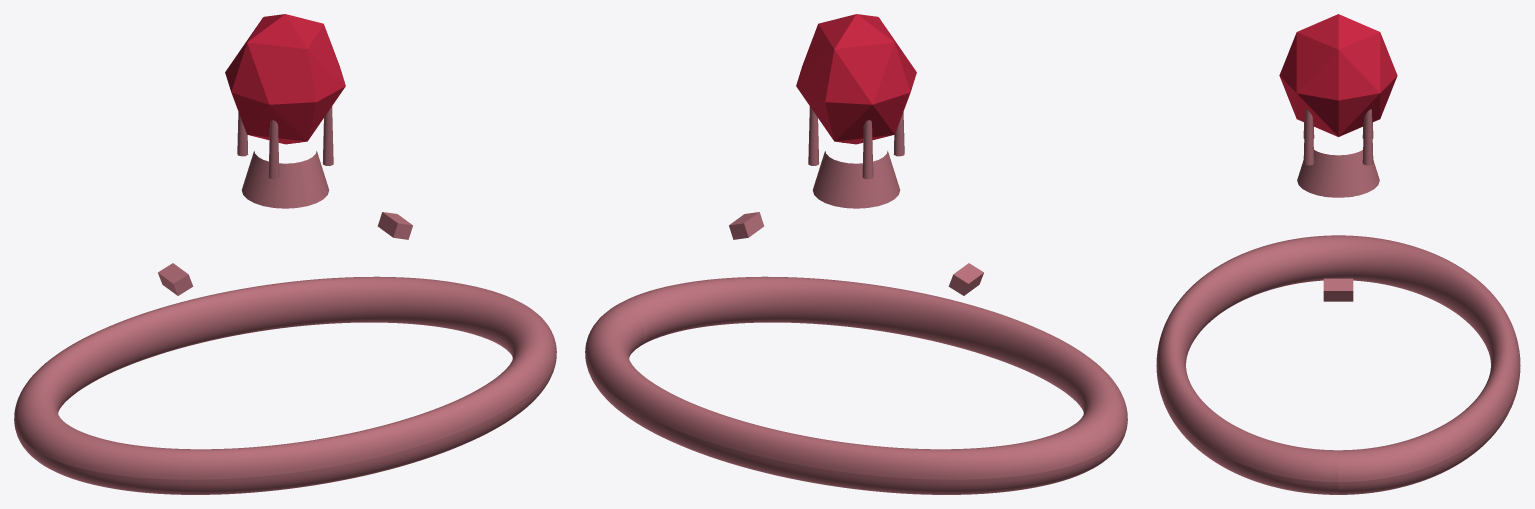
Rendered from ring-ruby.glb.
3 renders of one model, left to right at view 1: azimuth 30°, elevation 25°; view 2: azimuth 150°, elevation 25°; view 3: azimuth 270°, elevation 25°, orthographic. The views are drawn at different scales.
Bounding box in the file's own units: 1.87 × 1.39 × 1.23.
